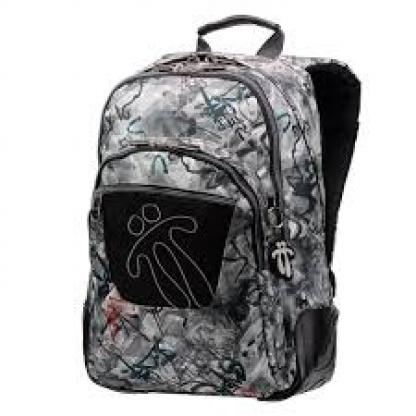morral: (72, 7, 368, 402)
